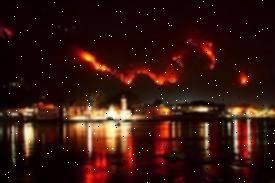fire: (71, 41, 228, 94)
